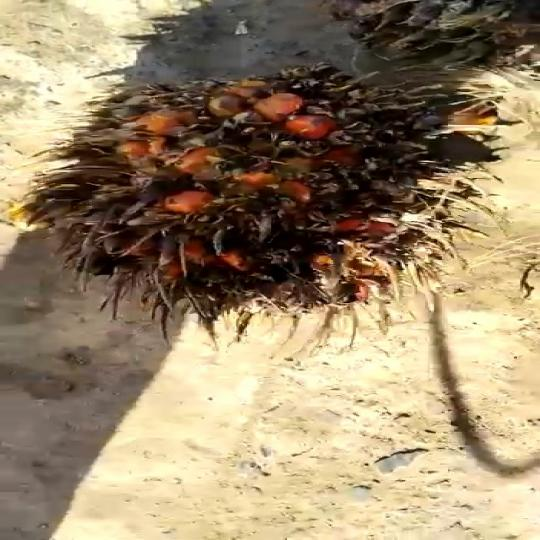terlalu masak: (0, 53, 540, 356)
